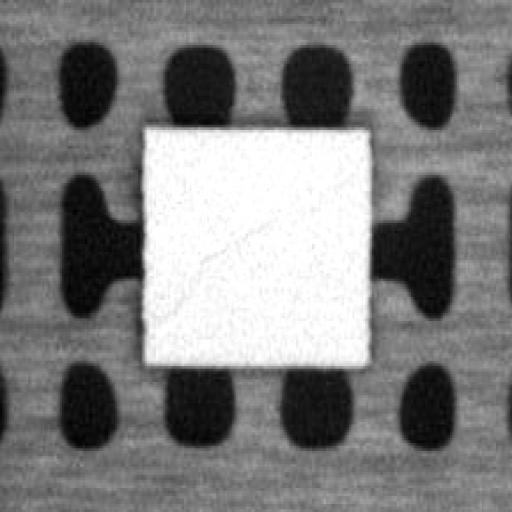DIE_CRACK: (198, 220, 268, 260)
